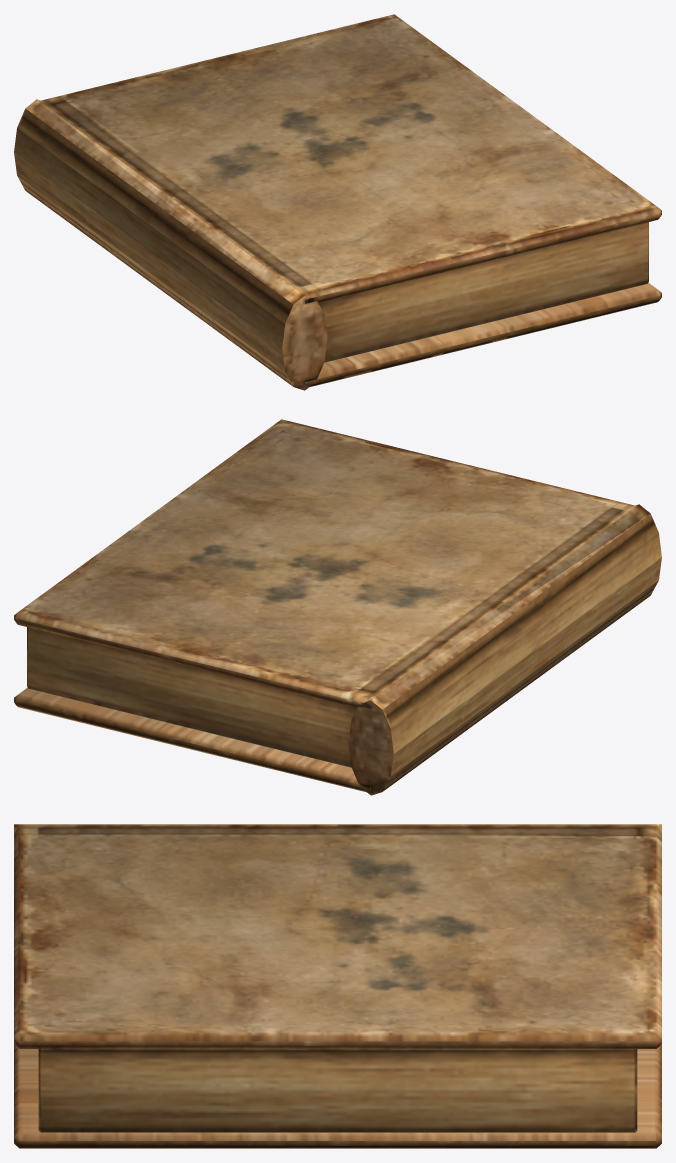
The model's file is item_mm9_10285.glb.
3 renders of one model, top to bottom at view 1: azimuth 30°, elevation 25°; view 2: azimuth 150°, elevation 25°; view 3: azimuth 270°, elevation 25°, orthographic. The views are drawn at different scales.
Visible parts, largest first — view 1: d10285; view 2: d10285; view 3: d10285.
Part boxes in pixels (left/top/right/bottom): d10285: left=14, top=14, right=661, bottom=390; d10285: left=14, top=419, right=661, bottom=795; d10285: left=14, top=824, right=661, bottom=1148.
Size of the model in its own units: 53.32 by 12.68 by 64.8.
Materials: 1 (1 with a texture image).
